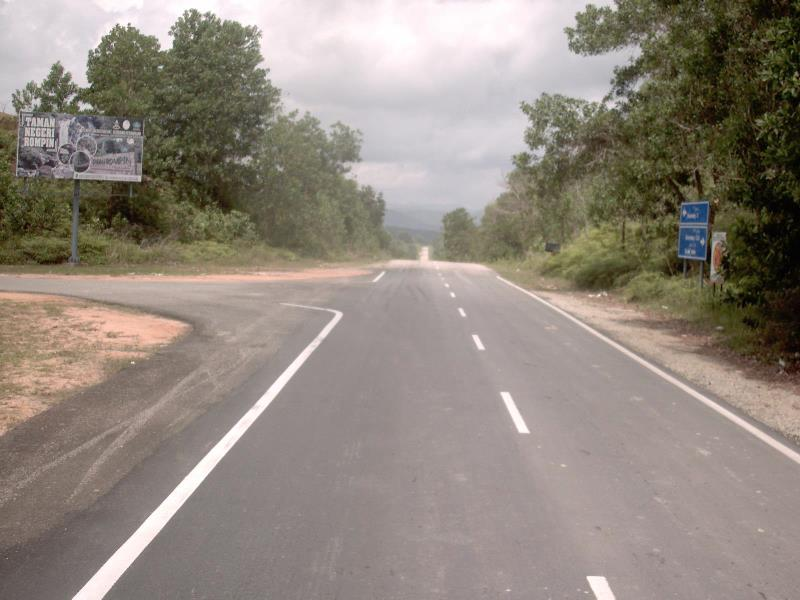ads_sign: (7, 103, 156, 189)
